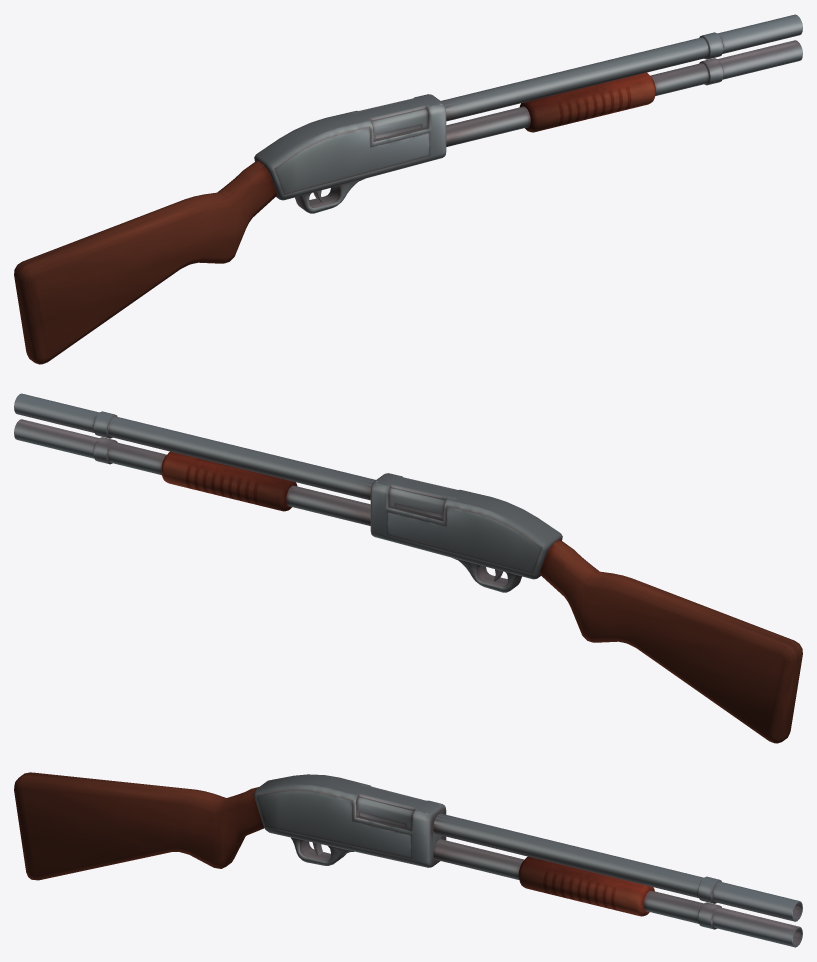
3 renders of one model, top to bottom at view 1: azimuth 30°, elevation 25°; view 2: azimuth 150°, elevation 25°; view 3: azimuth 330°, elevation 25°, orthographic.
Parts seen in each view (by area): view 1: shotgun_2, shotgunpomp_0; view 2: shotgun_2, shotgunpomp_0; view 3: shotgun_2, shotgunpomp_0.
Part boxes in pixels (x1,y1,x2,y2): shotgun_2: [14, 14, 802, 364]; shotgunpomp_0: [519, 72, 655, 132]; shotgun_2: [14, 393, 802, 743]; shotgunpomp_0: [161, 451, 297, 511]; shotgun_2: [14, 772, 802, 947]; shotgunpomp_0: [518, 856, 654, 916].
Size of the model in its own units: 63.41 by 13.05 by 2.55.
1 material, 1 textured.
